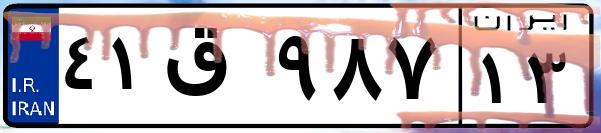1: (475, 38, 525, 113), (110, 28, 158, 98)
3: (525, 38, 570, 115)
4: (57, 26, 110, 100)
7: (385, 28, 445, 110)
8: (330, 28, 385, 110)
9: (270, 28, 330, 110)
ق: (158, 20, 270, 120)
